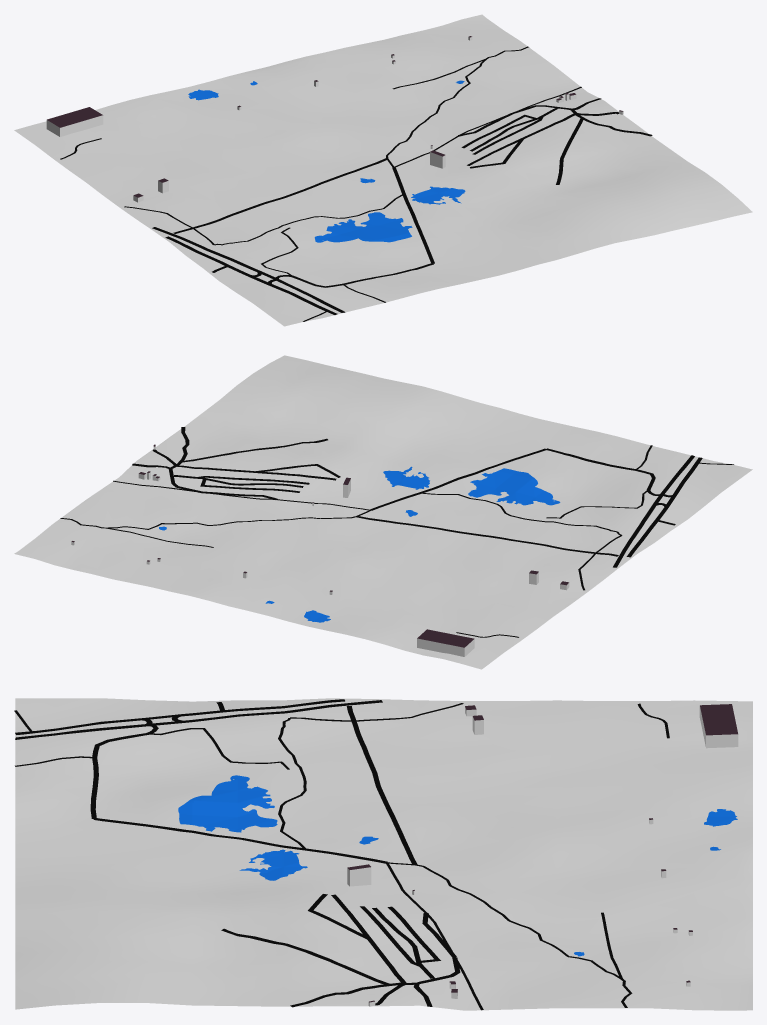
Rendered from tile_0_1.glb.
3 views of the same model, one above another, from view 1: azimuth 30°, elevation 25°; view 2: azimuth 150°, elevation 25°; view 3: azimuth 270°, elevation 25° (orthographic). The views are drawn at different scales.
Parts seen in each view (by area): view 1: terrain_0_1, ulaanbaatar.osm_water_mesh_0_1, ulaanbaatar.osm_roads_residential_mesh_0_1, ulaanbaatar.osm_roads_service_mesh_0_1, ulaanbaatar.osm_buildings_0_1, ulaanbaatar.osm_roads_unclassified_mesh_0_1, ulaanbaatar.osm_roads_secondary_mesh_0_1; view 2: terrain_0_1, ulaanbaatar.osm_water_mesh_0_1, ulaanbaatar.osm_roads_residential_mesh_0_1, ulaanbaatar.osm_roads_service_mesh_0_1, ulaanbaatar.osm_roads_unclassified_mesh_0_1, ulaanbaatar.osm_buildings_0_1, ulaanbaatar.osm_roads_secondary_mesh_0_1; view 3: terrain_0_1, ulaanbaatar.osm_water_mesh_0_1, ulaanbaatar.osm_roads_residential_mesh_0_1, ulaanbaatar.osm_roads_service_mesh_0_1, ulaanbaatar.osm_roads_unclassified_mesh_0_1, ulaanbaatar.osm_buildings_0_1, ulaanbaatar.osm_roads_secondary_mesh_0_1.
Boxes of the visible parts, <box> form: terrain_0_1: <box>14,14,752,326</box>; ulaanbaatar.osm_water_mesh_0_1: <box>188,80,465,242</box>; ulaanbaatar.osm_roads_residential_mesh_0_1: <box>458,105,618,184</box>; ulaanbaatar.osm_roads_service_mesh_0_1: <box>60,46,581,321</box>; ulaanbaatar.osm_buildings_0_1: <box>46,36,623,202</box>; ulaanbaatar.osm_roads_unclassified_mesh_0_1: <box>173,98,652,287</box>; ulaanbaatar.osm_roads_secondary_mesh_0_1: <box>152,227,345,314</box>; terrain_0_1: <box>14,355,752,669</box>; ulaanbaatar.osm_water_mesh_0_1: <box>159,466,560,622</box>; ulaanbaatar.osm_roads_residential_mesh_0_1: <box>152,438,340,499</box>; ulaanbaatar.osm_roads_service_mesh_0_1: <box>60,445,733,637</box>; ulaanbaatar.osm_roads_unclassified_mesh_0_1: <box>132,427,675,556</box>; ulaanbaatar.osm_buildings_0_1: <box>71,444,569,656</box>; ulaanbaatar.osm_roads_secondary_mesh_0_1: <box>613,455,702,567</box>; terrain_0_1: <box>15,698,752,1010</box>; ulaanbaatar.osm_water_mesh_0_1: <box>178,775,737,956</box>; ulaanbaatar.osm_roads_residential_mesh_0_1: <box>221,894,460,1005</box>; ulaanbaatar.osm_roads_service_mesh_0_1: <box>14,703,669,1010</box>; ulaanbaatar.osm_roads_unclassified_mesh_0_1: <box>90,702,432,1007</box>; ulaanbaatar.osm_buildings_0_1: <box>347,704,738,1006</box>; ulaanbaatar.osm_roads_secondary_mesh_0_1: <box>15,699,382,739</box>.
Size of the model in its own units: 1002 by 32.18 by 1002.
